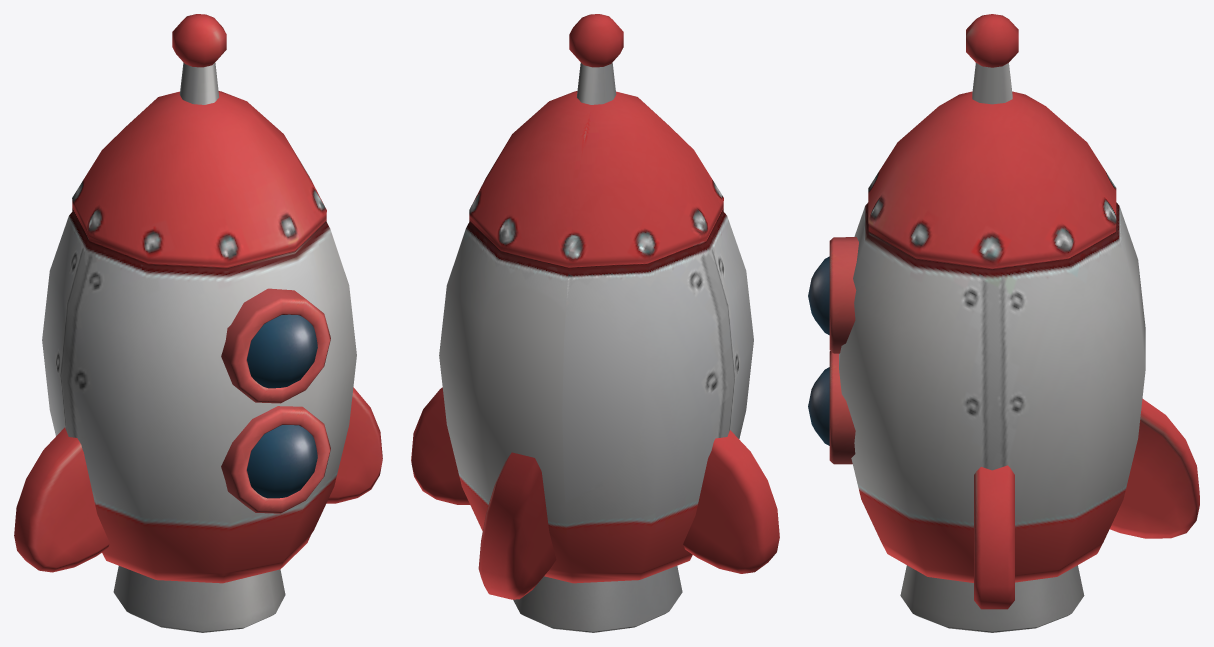
Rendered from rocket_1.fbx.
3 views of the same model, side by side, from view 1: azimuth 30°, elevation 25°; view 2: azimuth 150°, elevation 25°; view 3: azimuth 270°, elevation 25° (orthographic).
Visible parts, largest first — view 1: rocket_1; view 2: rocket_1; view 3: rocket_1.
Boxes of the visible parts, x1=… form: rocket_1: x1=14, y1=14, x2=382, y2=632; rocket_1: x1=411, y1=14, x2=779, y2=632; rocket_1: x1=808, y1=14, x2=1199, y2=632.
Size of the model in its own units: 74.62 by 116 by 71.01.
